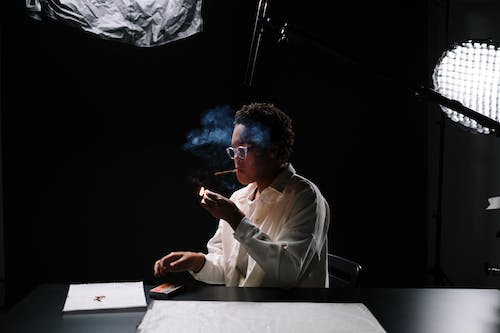cigarette: (213, 167, 239, 177)
